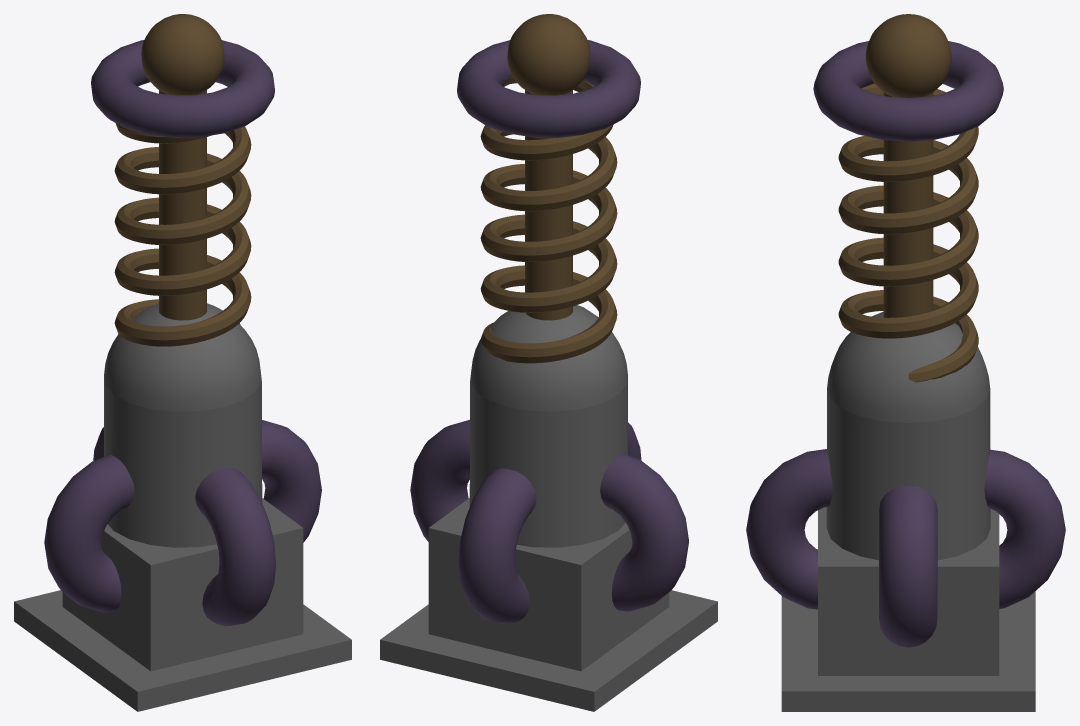
The model's file is powerStation.fbx.
3 views of the same model, side by side, from view 1: azimuth 30°, elevation 25°; view 2: azimuth 150°, elevation 25°; view 3: azimuth 270°, elevation 25° (orthographic). The views are drawn at different scales.
Visible parts, largest first — view 1: power_station_final1; view 2: power_station_final1; view 3: power_station_final1.
Part boxes in pixels (x1,y1,x2,y2): power_station_final1: (14,14,351,711); power_station_final1: (380,14,717,711); power_station_final1: (746,14,1065,711).
Bounding box in the file's own units: 1.78 × 3.9 × 1.77.
